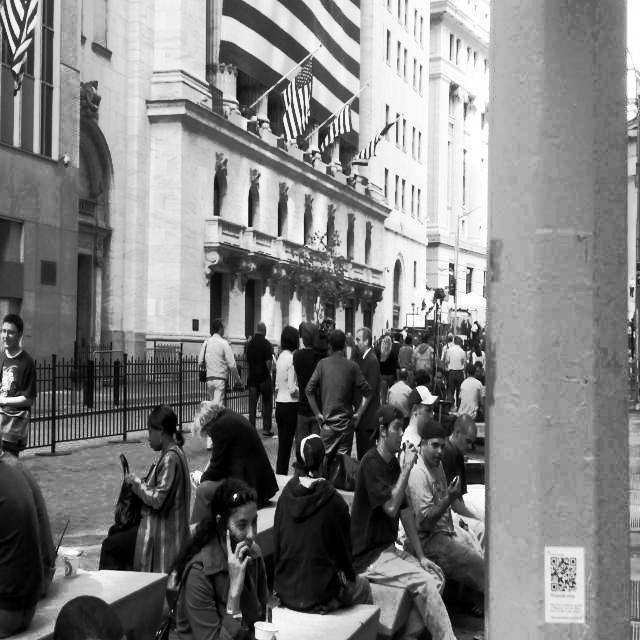qr_code: (551, 557, 576, 591)
